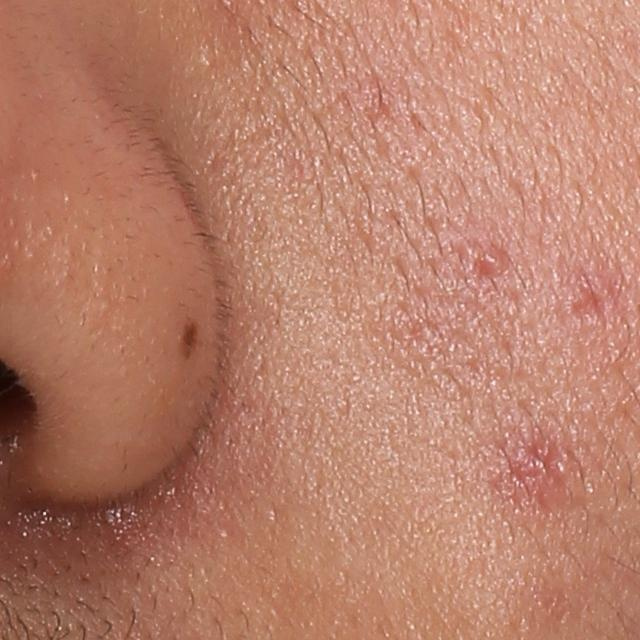comedo: (200, 56, 213, 71)
nevus: (174, 313, 200, 360)
papule: (467, 234, 513, 282)
